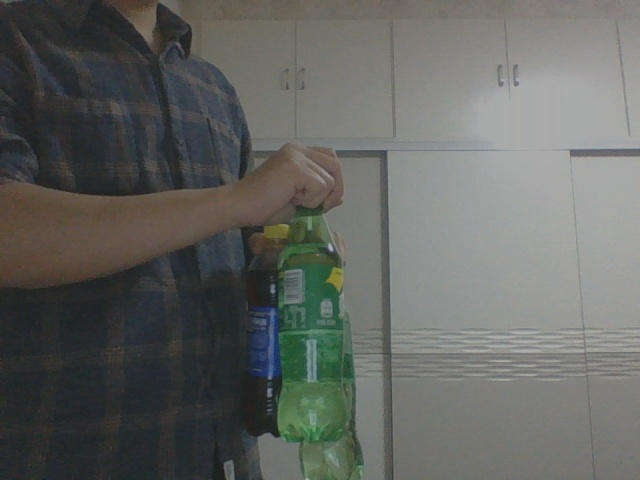Cola: (244, 221, 289, 437)
Sprite: (276, 195, 347, 446)
